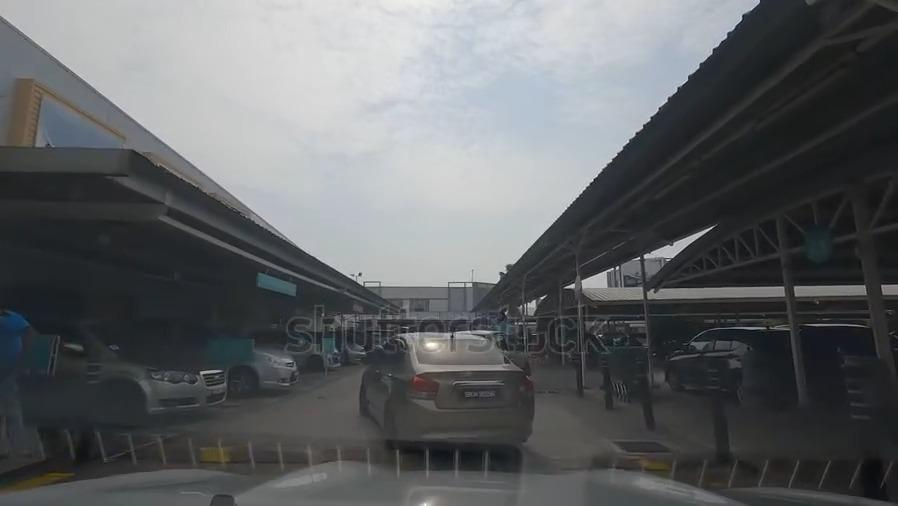car: (359, 335, 526, 457), (0, 325, 230, 407), (664, 327, 839, 397), (133, 328, 301, 391), (798, 321, 895, 415), (253, 333, 347, 371), (488, 333, 537, 374), (350, 343, 364, 360)
manhole: (613, 436, 672, 458), (534, 388, 562, 400)
person: (0, 304, 37, 457)
speedbump: (121, 442, 720, 467)
wheel: (109, 380, 143, 429), (228, 367, 256, 398), (383, 407, 393, 448), (309, 356, 323, 371)
